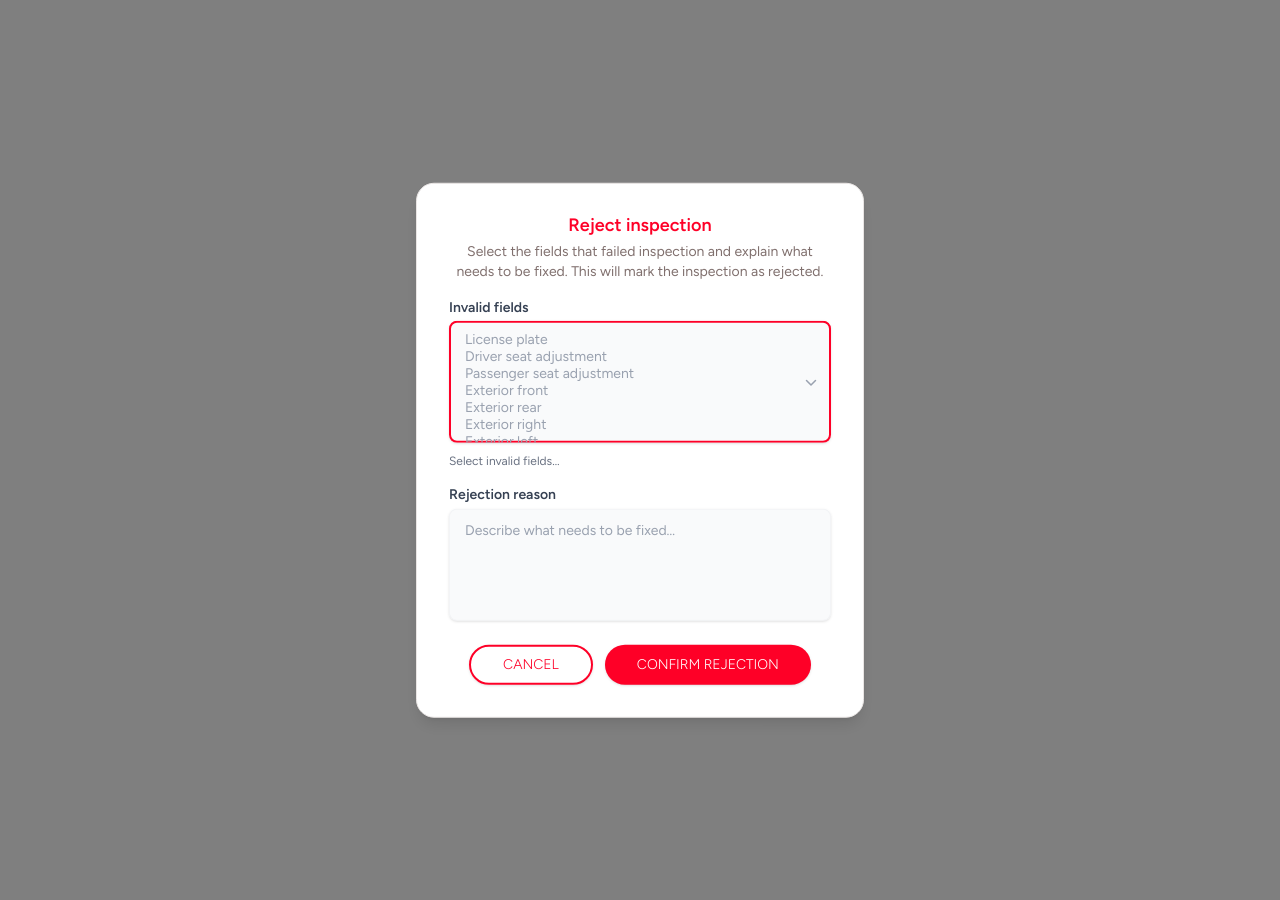
Test: RejectDialog › shows an inline error when submitting with nothing selected
Click the button "Confirm rejection" at (708, 664), box [605,644,811,684]
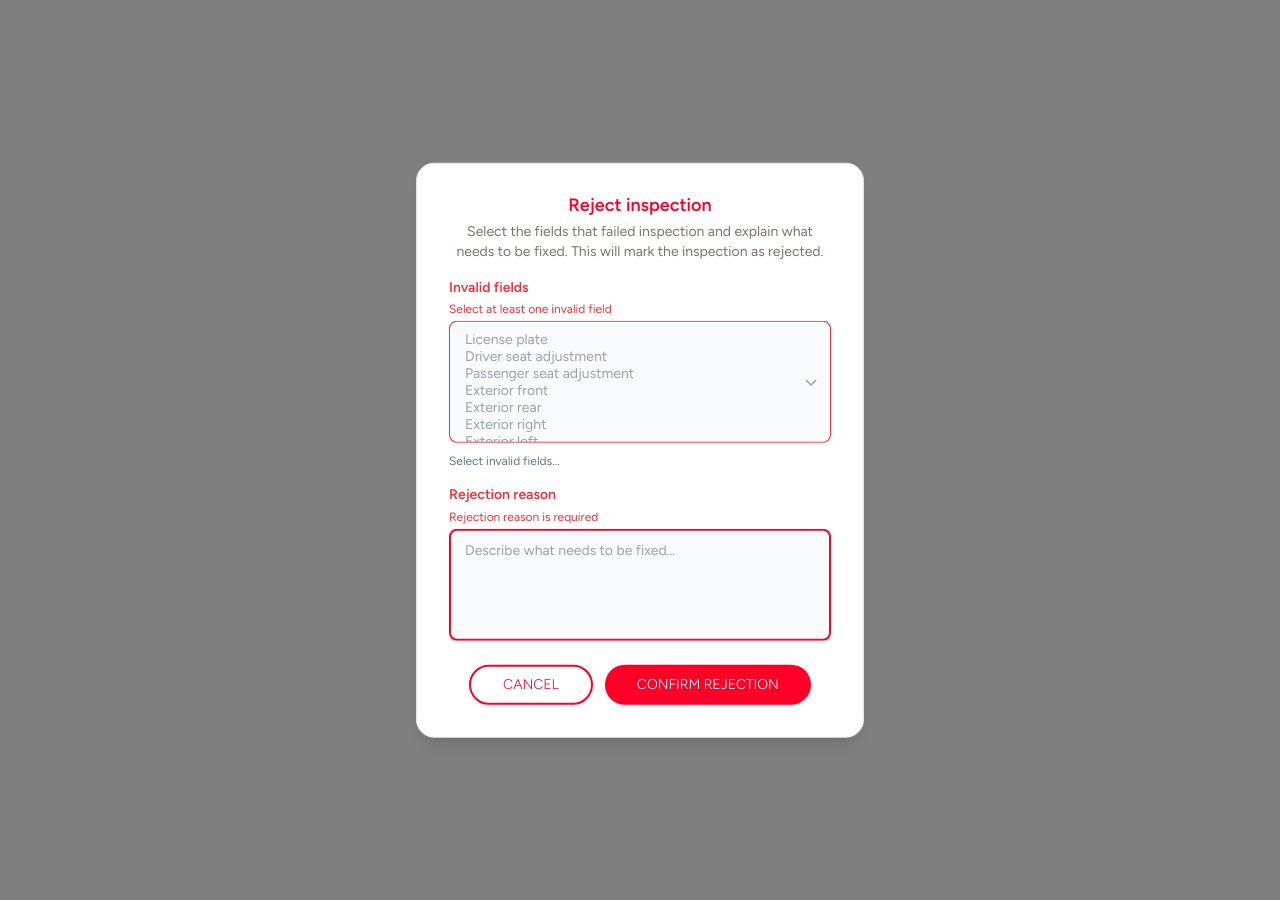
Expected: the text "Select at least one invalid field" is shown, [449,302,612,316]
